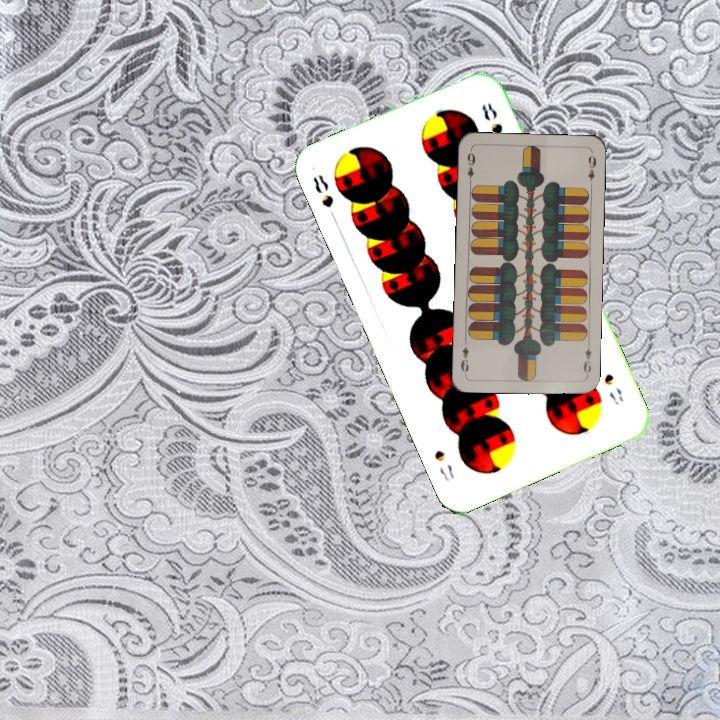E9: (463, 147, 478, 187), (579, 339, 594, 379)
S8: (309, 170, 340, 225), (600, 369, 626, 408)
